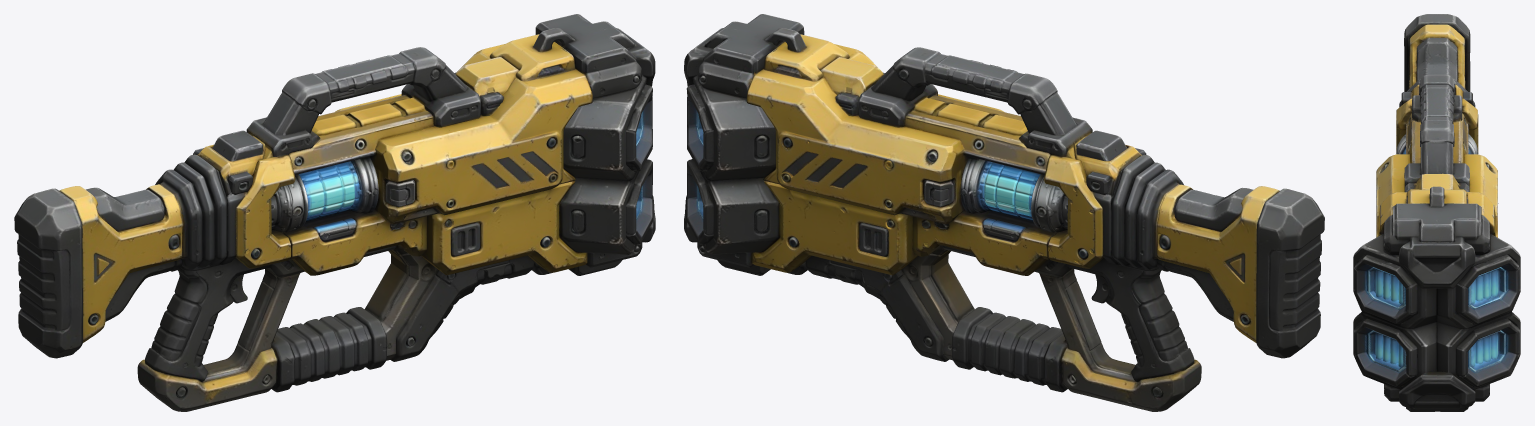
Rendered from Lanzador de plasma.fbx.
3 views of the same model, side by side, from view 1: azimuth 30°, elevation 25°; view 2: azimuth 150°, elevation 25°; view 3: azimuth 270°, elevation 25° (orthographic). The views are drawn at different scales.
Visible parts, largest first — view 1: tripo_node_74fe6547; view 2: tripo_node_74fe6547; view 3: tripo_node_74fe6547.
Boxes of the visible parts, x1,y1,x2,y2 form: tripo_node_74fe6547: [14, 14, 655, 411]; tripo_node_74fe6547: [684, 14, 1324, 411]; tripo_node_74fe6547: [1353, 14, 1520, 411].
Size of the model in its own units: 0.9818 by 0.4474 by 0.2678.
1 material, 1 textured.
